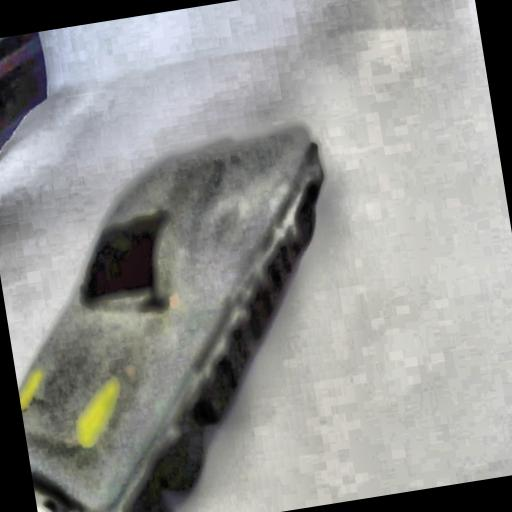normal_car: (18, 126, 323, 512)
